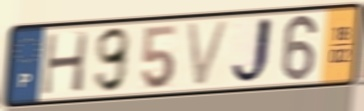5: (140, 23, 179, 91)
6: (280, 12, 320, 84)
9: (90, 25, 134, 95)
H: (40, 29, 91, 97)
J: (229, 15, 276, 87)
V: (184, 17, 234, 90)
